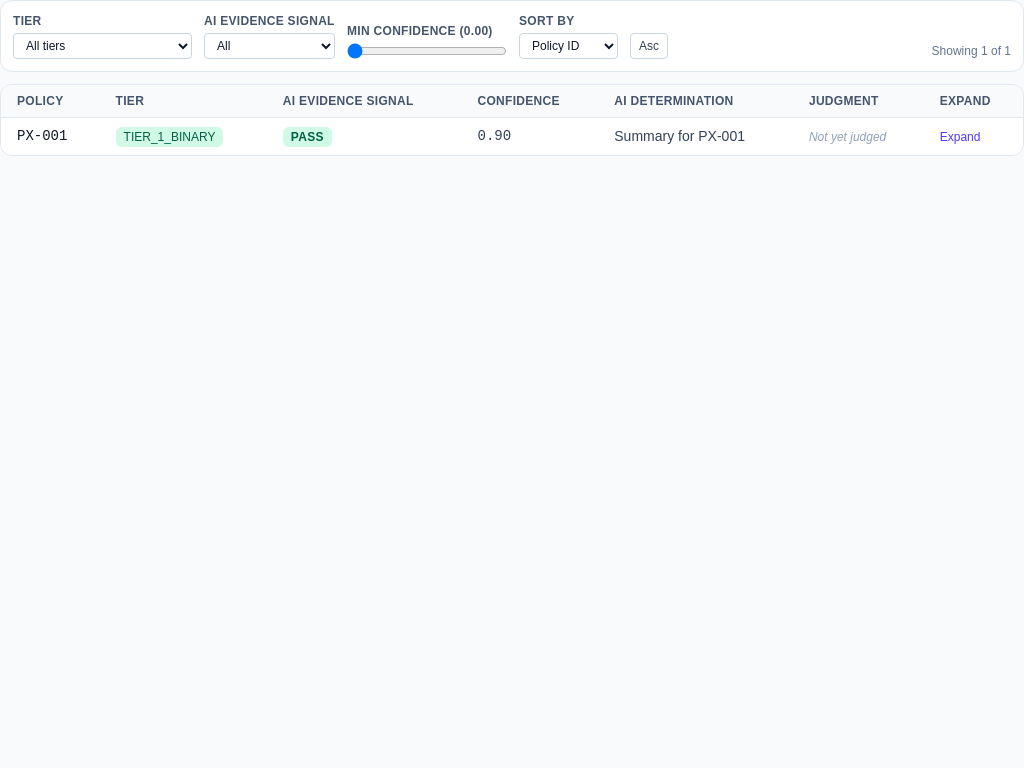
Test: evidence reference matching (L3A R3/X3 as amended) › table-level integration: supporting id present in the row's evidence_packet gets the matched marker
The image size is (1024, 768).
Click the button with test id "per-policy-expand-toggle": point(960, 137) 940,129 -> 980,145
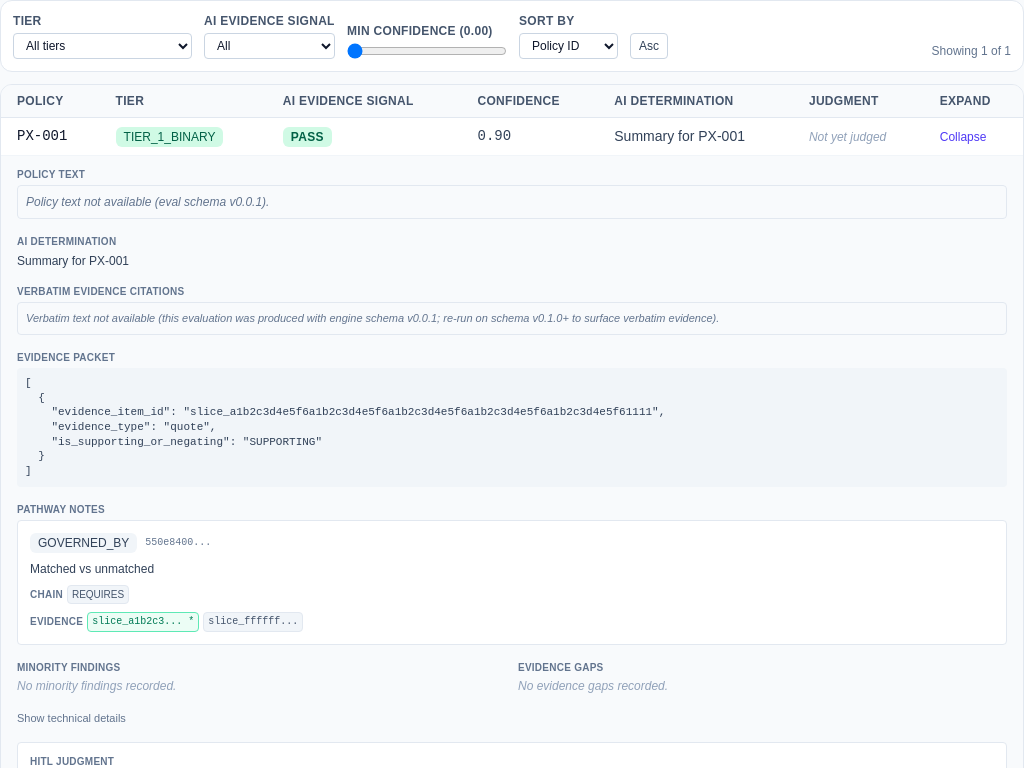
Expected: the text "slice_a1b2c3... *" is shown, 87,612 -> 199,632
Expected: the text "slice_ffffff..." is shown, 203,612 -> 303,632
